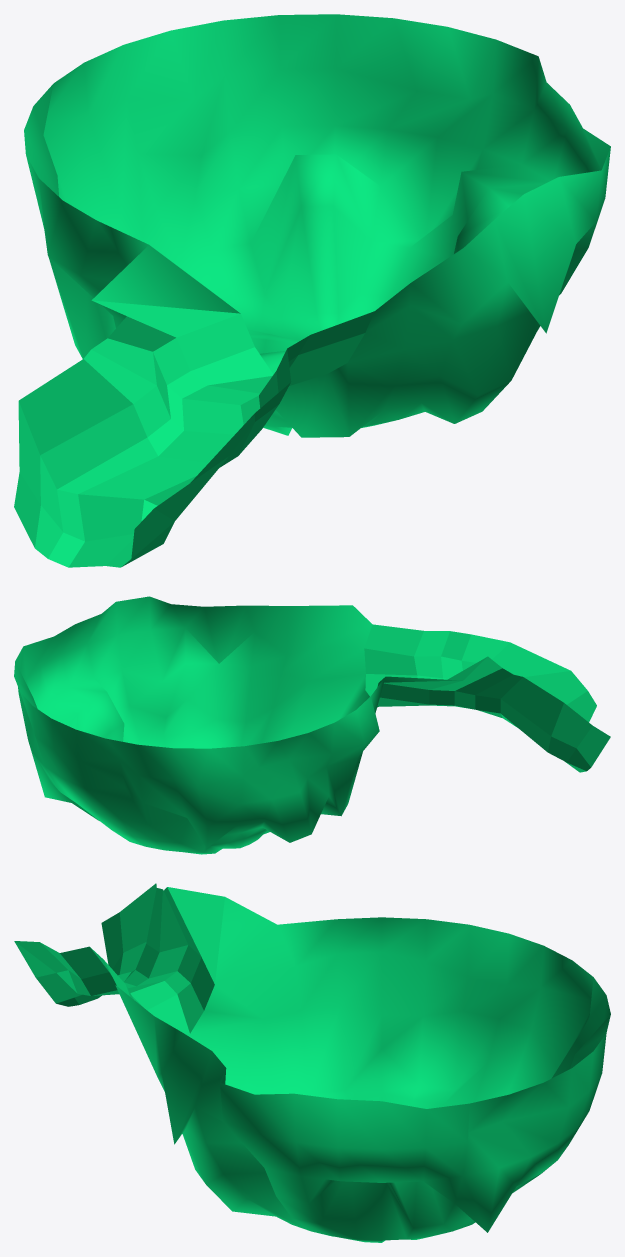
The model's file is cave_type09.FBX.
The picture shows the model from 3 angles, top to bottom: view 1: azimuth 30°, elevation 25°; view 2: azimuth 150°, elevation 25°; view 3: azimuth 270°, elevation 25°; orthographic projection. The views are drawn at different scales.
Parts seen in each view (by area): view 1: tha_DOOOOOMMEE002; view 2: tha_DOOOOOMMEE002; view 3: tha_DOOOOOMMEE002.
Boxes of the visible parts, bbox=[...] form: tha_DOOOOOMMEE002: bbox=[14, 14, 610, 567]; tha_DOOOOOMMEE002: bbox=[14, 596, 610, 854]; tha_DOOOOOMMEE002: bbox=[14, 883, 610, 1242].
Size of the model in its own units: 22.76 by 7.56 by 20.6.
